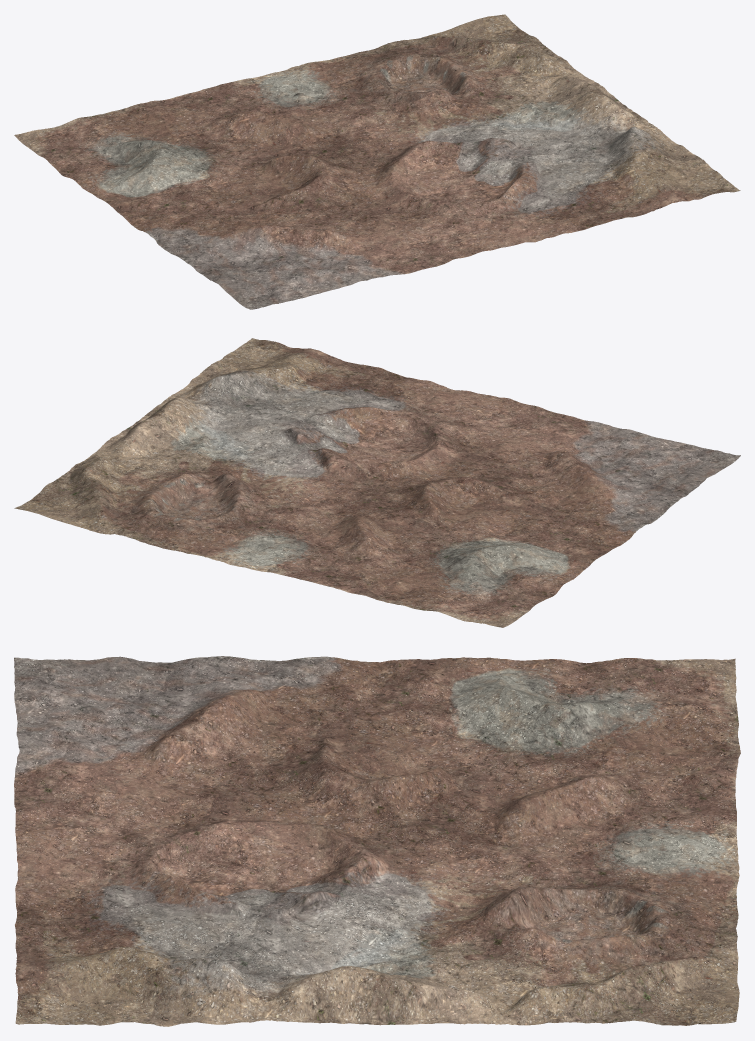
File: terrain_compressed_norocks_5x.obj
3 views of the same model, one above another, from view 1: azimuth 30°, elevation 25°; view 2: azimuth 150°, elevation 25°; view 3: azimuth 270°, elevation 25° (orthographic). The views are drawn at different scales.
Visible parts, largest first — view 1: Plane003_Mesh; view 2: Plane003_Mesh; view 3: Plane003_Mesh.
Boxes of the visible parts, left/top/right/bottom form: Plane003_Mesh: left=14, top=14, right=740, bottom=309; Plane003_Mesh: left=14, top=338, right=740, bottom=627; Plane003_Mesh: left=14, top=656, right=740, bottom=1026.
Size of the model in its own units: 216 by 11.83 by 181.
Materials: 1 (1 with a texture image).
